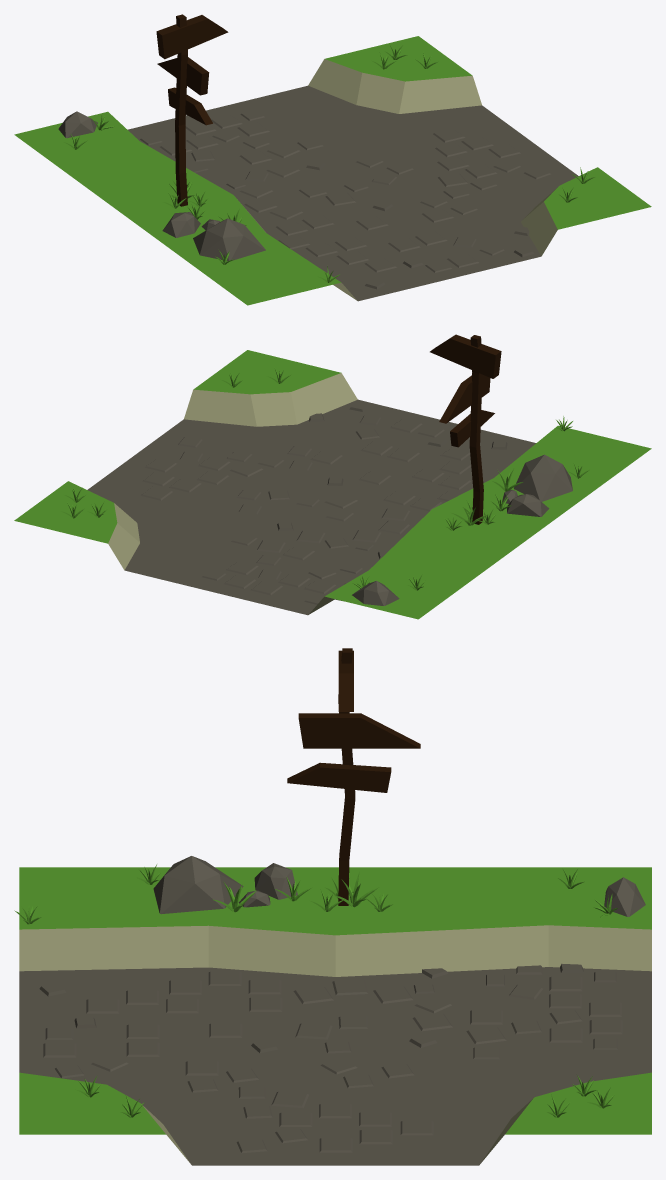
Rendered from RoadT.fbx.
3 renders of one model, top to bottom at view 1: azimuth 30°, elevation 25°; view 2: azimuth 150°, elevation 25°; view 3: azimuth 270°, elevation 25°, orthographic. The views are drawn at different scales.
Parts seen in each view (by area): view 1: RoadT; view 2: RoadT; view 3: RoadT.
Boxes of the visible parts, left/top/right/bottom form: RoadT: left=14, top=14, right=651, bottom=305; RoadT: left=14, top=334, right=651, bottom=619; RoadT: left=14, top=648, right=651, bottom=1165.
Bounding box in the file's own units: 500 × 250 × 504.
